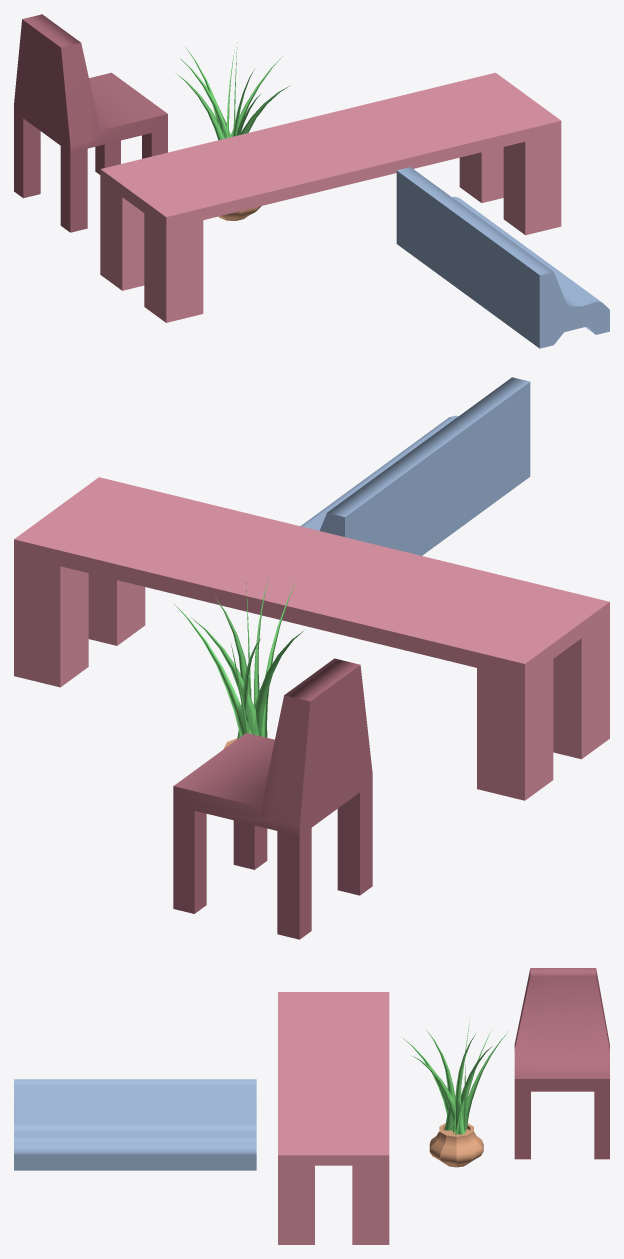
The model's file is Furniture(colored).fbx.
3 renders of one model, top to bottom at view 1: azimuth 30°, elevation 25°; view 2: azimuth 150°, elevation 25°; view 3: azimuth 270°, elevation 25°, orthographic. The views are drawn at different scales.
Parts seen in each view (by area): view 1: Table, Chair, Couch, Plant; view 2: Table, Chair, Couch, Plant; view 3: Table, Couch, Chair, Plant, Pot.
Boxes of the visible parts, x1,y1,x2,y2 form: Table: (100,72,561,322); Chair: (14,14,167,232); Couch: (396,167,609,348); Plant: (176,42,290,140); Table: (14,477,609,800); Chair: (173,658,372,939); Couch: (300,377,530,555); Plant: (174,577,305,739); Table: (278,992,389,1244); Couch: (14,1079,256,1170); Chair: (514,968,609,1159); Plant: (403,1019,508,1134); Pot: (429,1123,483,1167).
Size of the model in its own units: 21.14 by 9.11 by 32.62.
